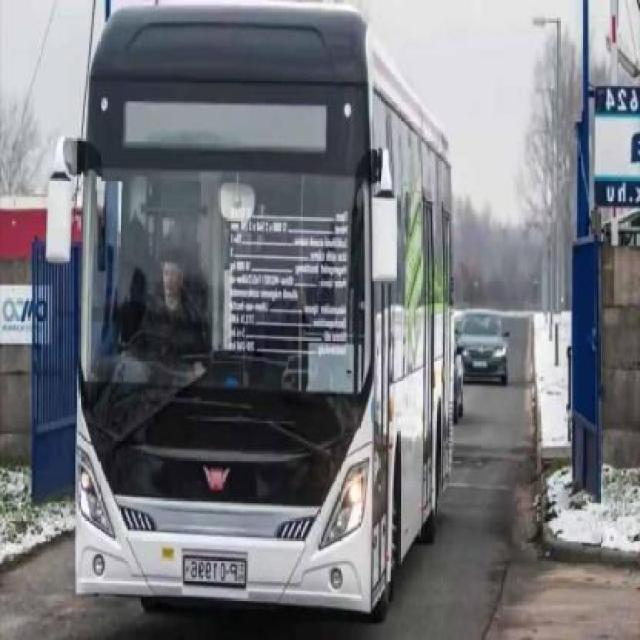bus: (44, 6, 452, 620)
car: (462, 312, 508, 388)
